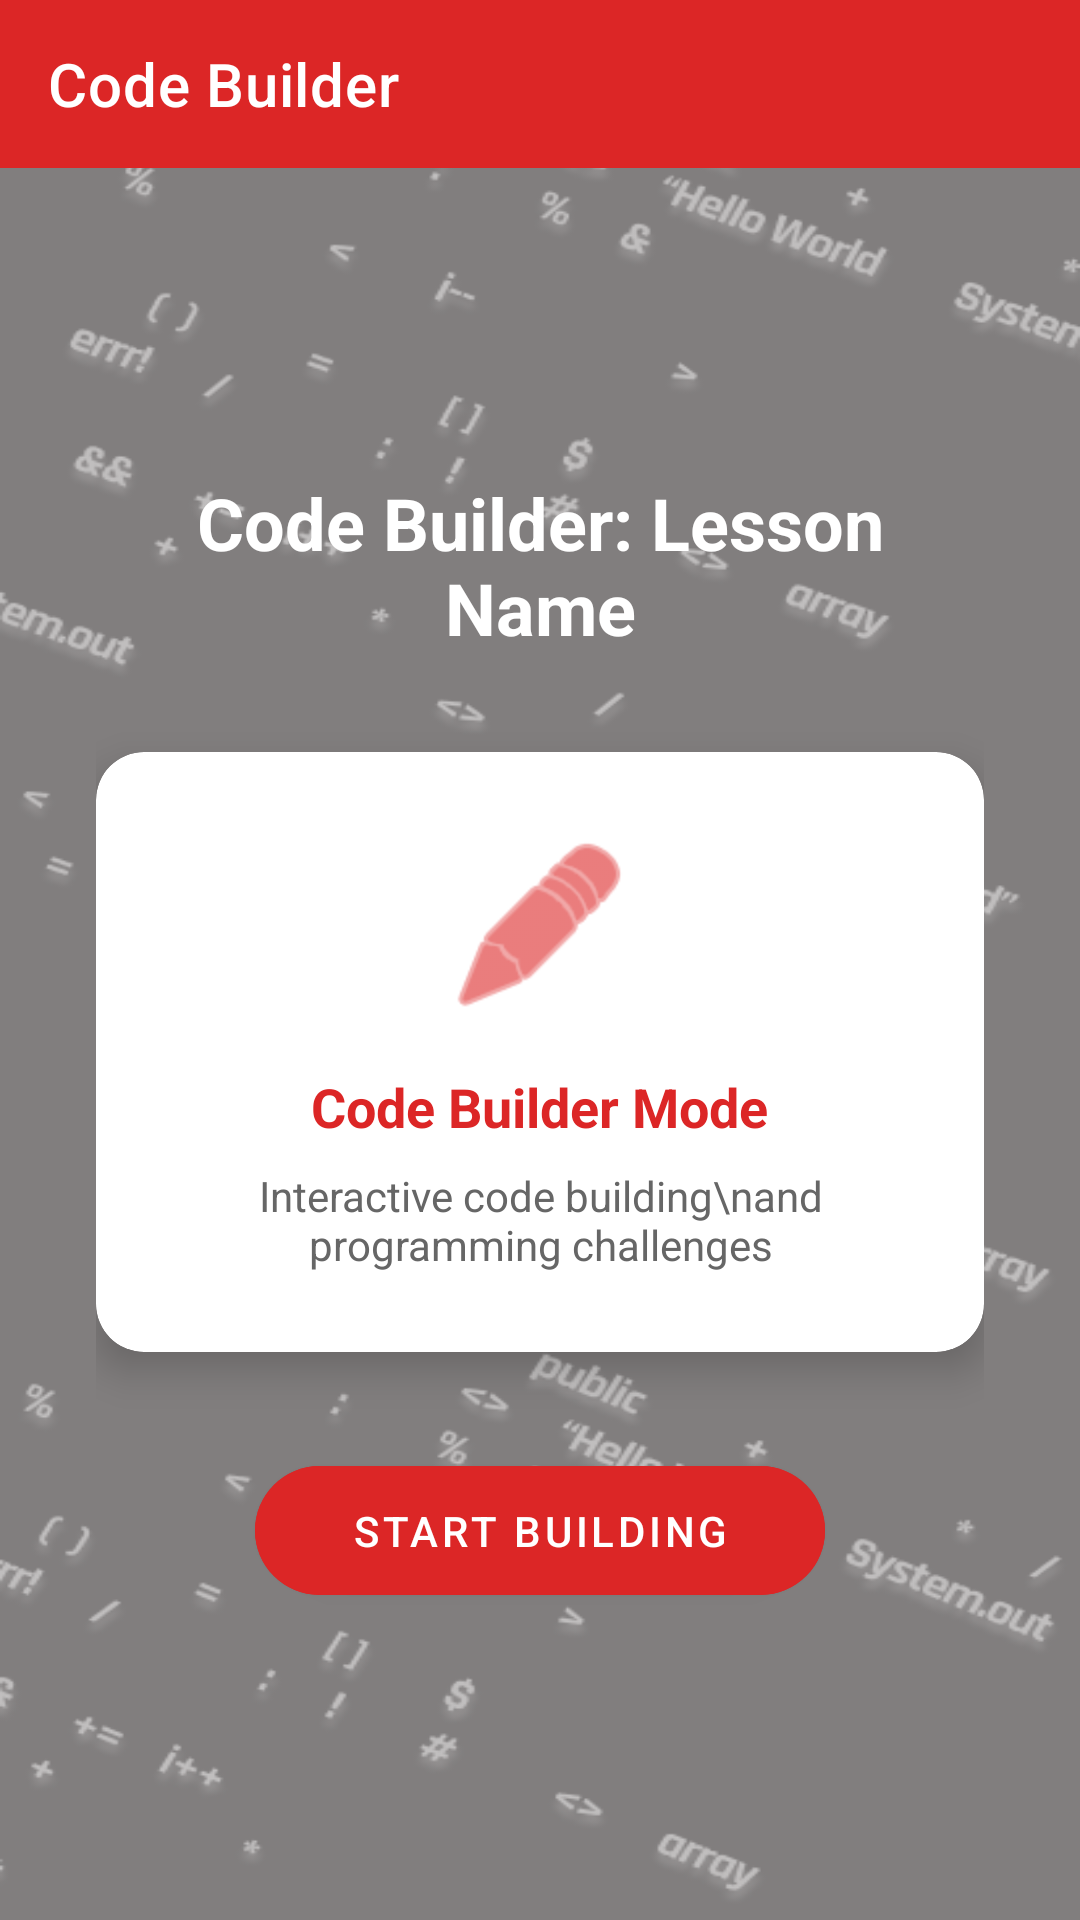

Named icons in this screenshot (1080x1920) and their bounding boxes, (x1, y1, x2, y2):
edit: (458, 843, 621, 1006)
